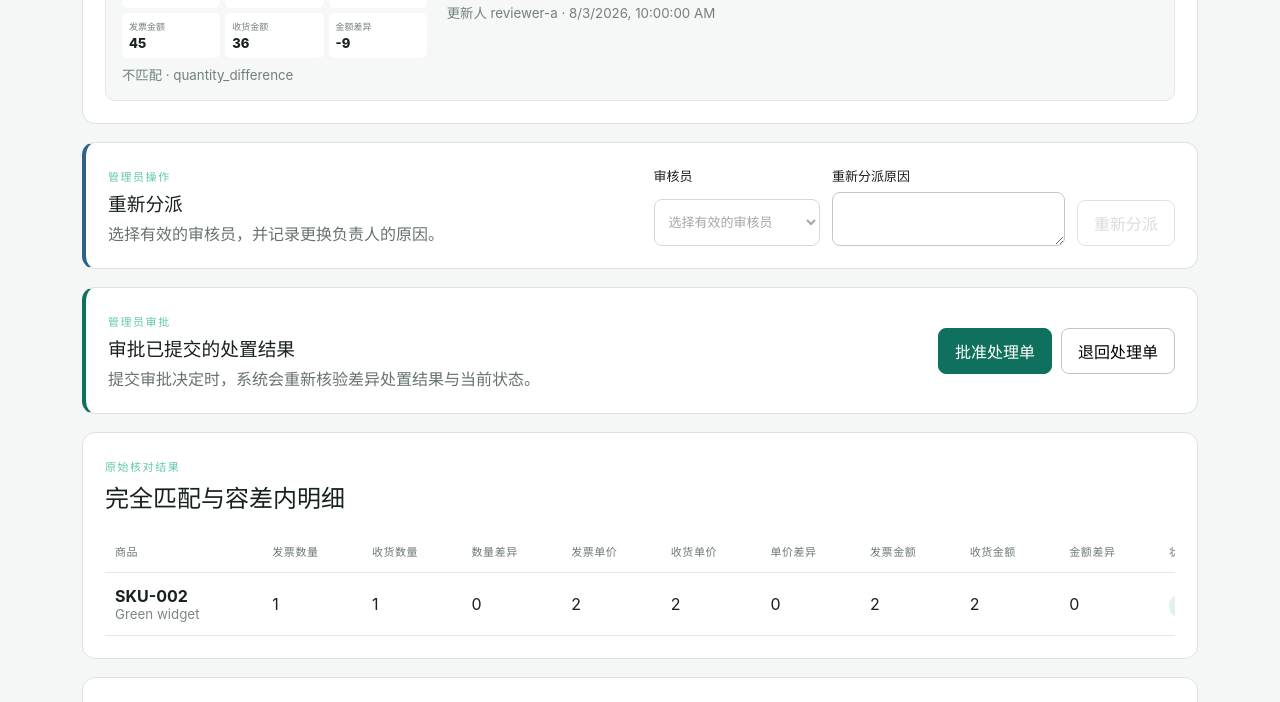
CaseDetailPage admin workflow › requires and sends an explanatory reason when returning a Case
The width and height of the screenshot is (1280, 702).
(page scrolled)
Click the button "退回处理单" at (1118, 351), box x1=1061 y1=328 x2=1175 y2=374
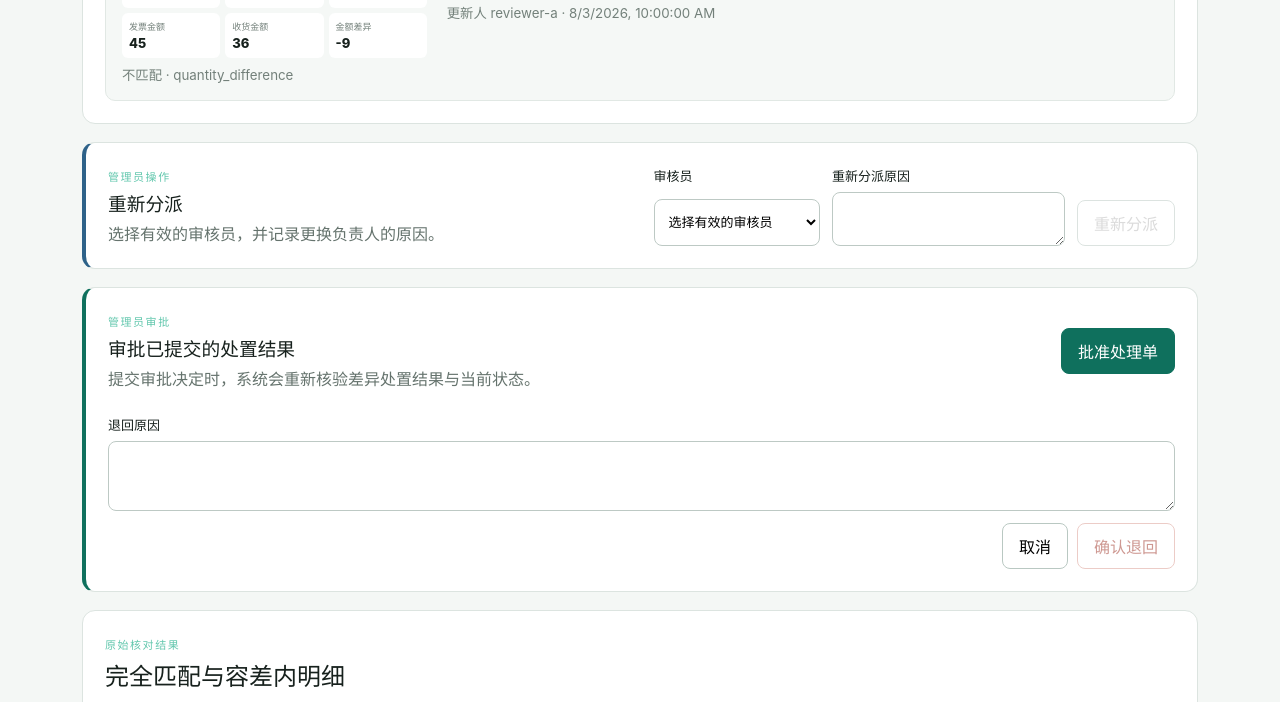
Now the button "确认退回" is disabled, box x1=1077 y1=523 x2=1175 y2=569
Type "  Need supplier evidence  " into the text box labelled "退回原因" at (642, 476), box x1=108 y1=441 x2=1175 y2=511
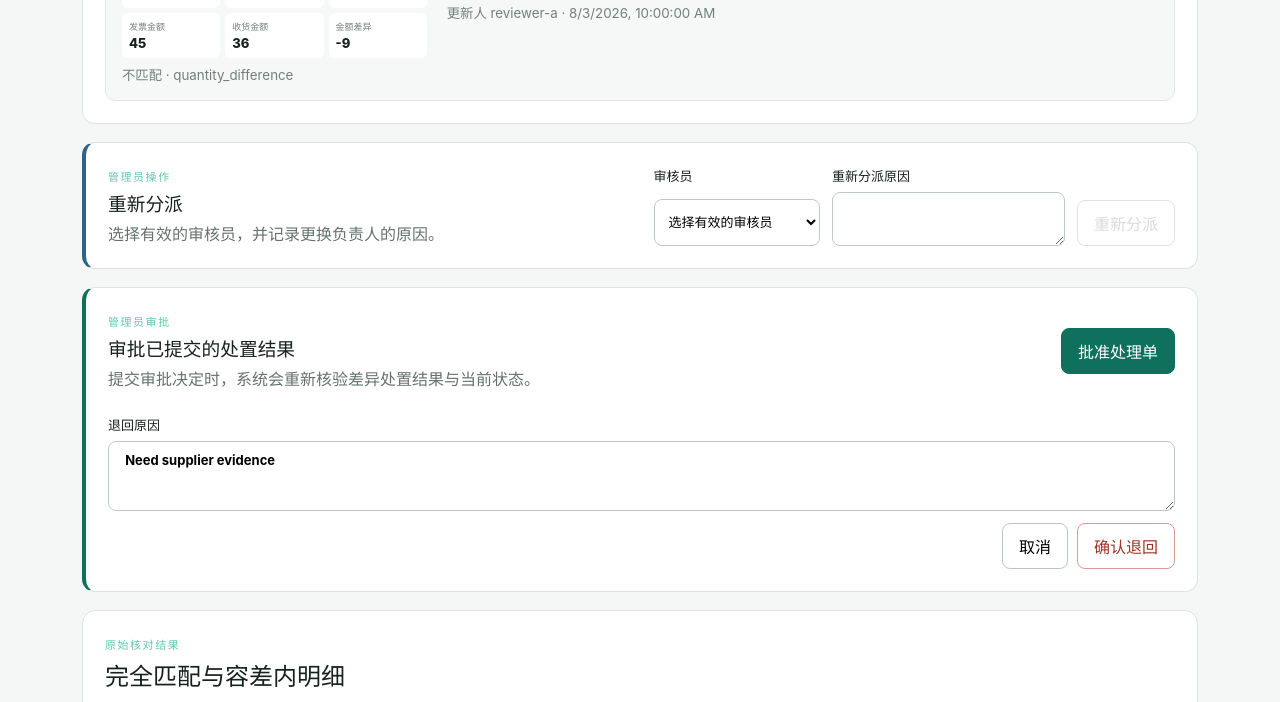
Now the button "确认退回" is enabled
Click the button "确认退回" at (1126, 546), box x1=1077 y1=523 x2=1175 y2=569
(page scrolled)
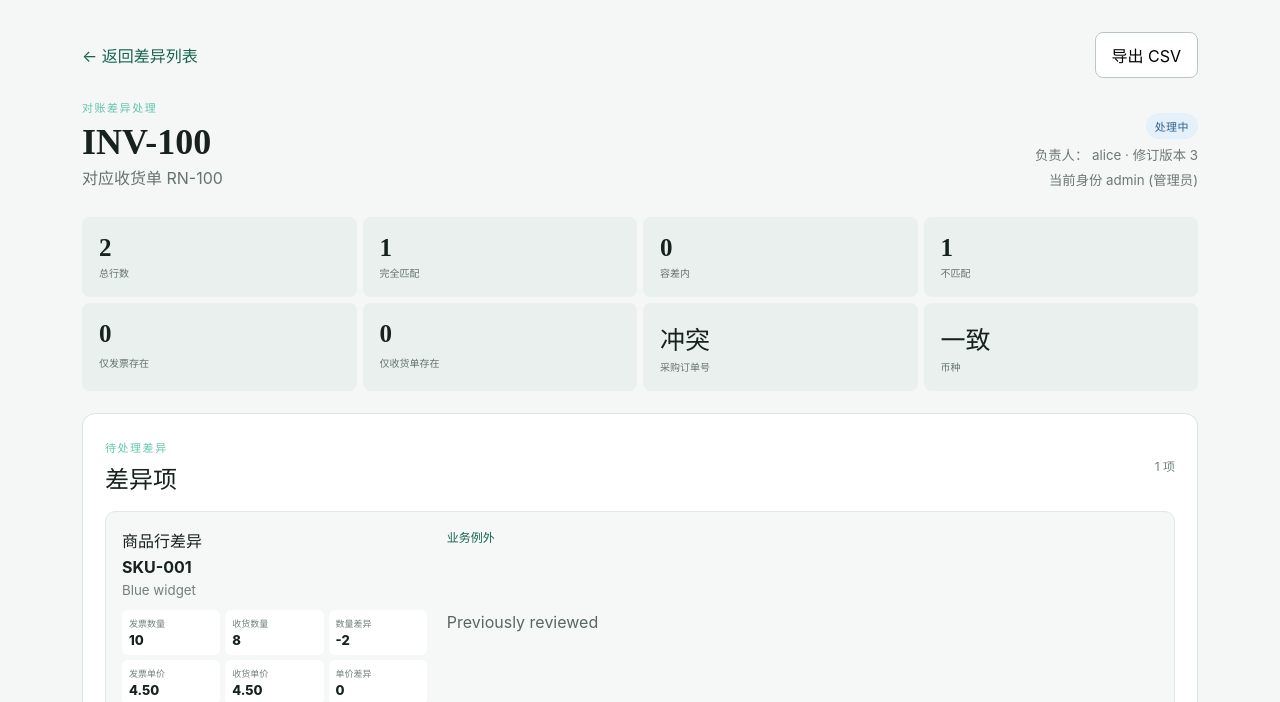
Now the text "处理中" is shown, box x1=1146 y1=113 x2=1198 y2=139
